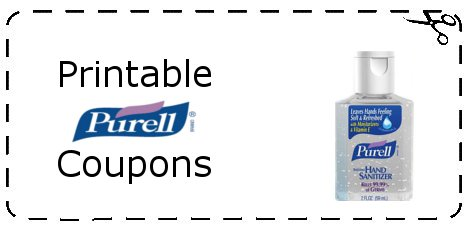Sanitizer: (331, 43, 416, 206)
